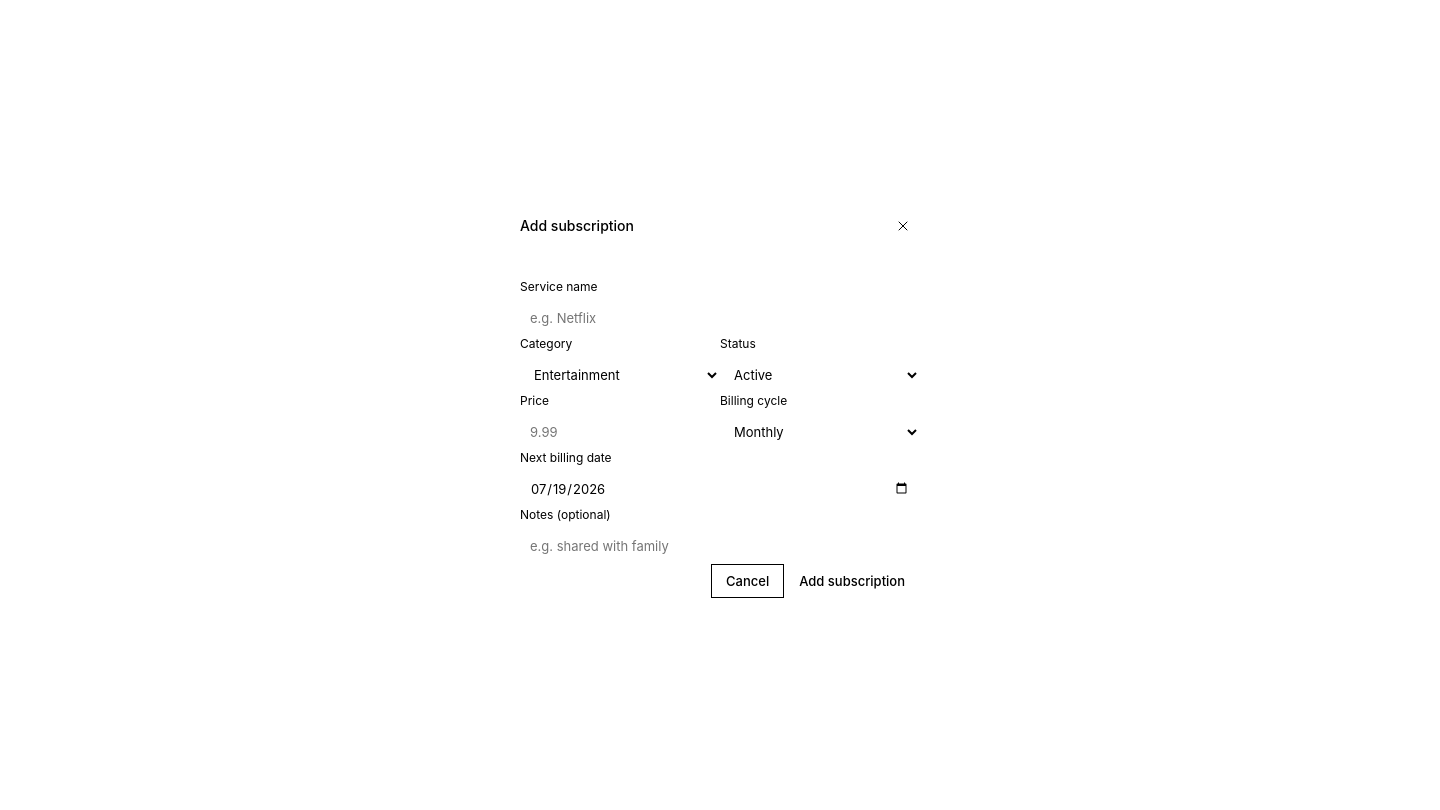
Test: SubscriptionFormModal › suggests a popular service and auto-fills its category on selection
The width and height of the screenshot is (1440, 810).
In the dropdown with placeholder "e.g. Netflix": (720, 318) [520,300,920,336], type "Net"
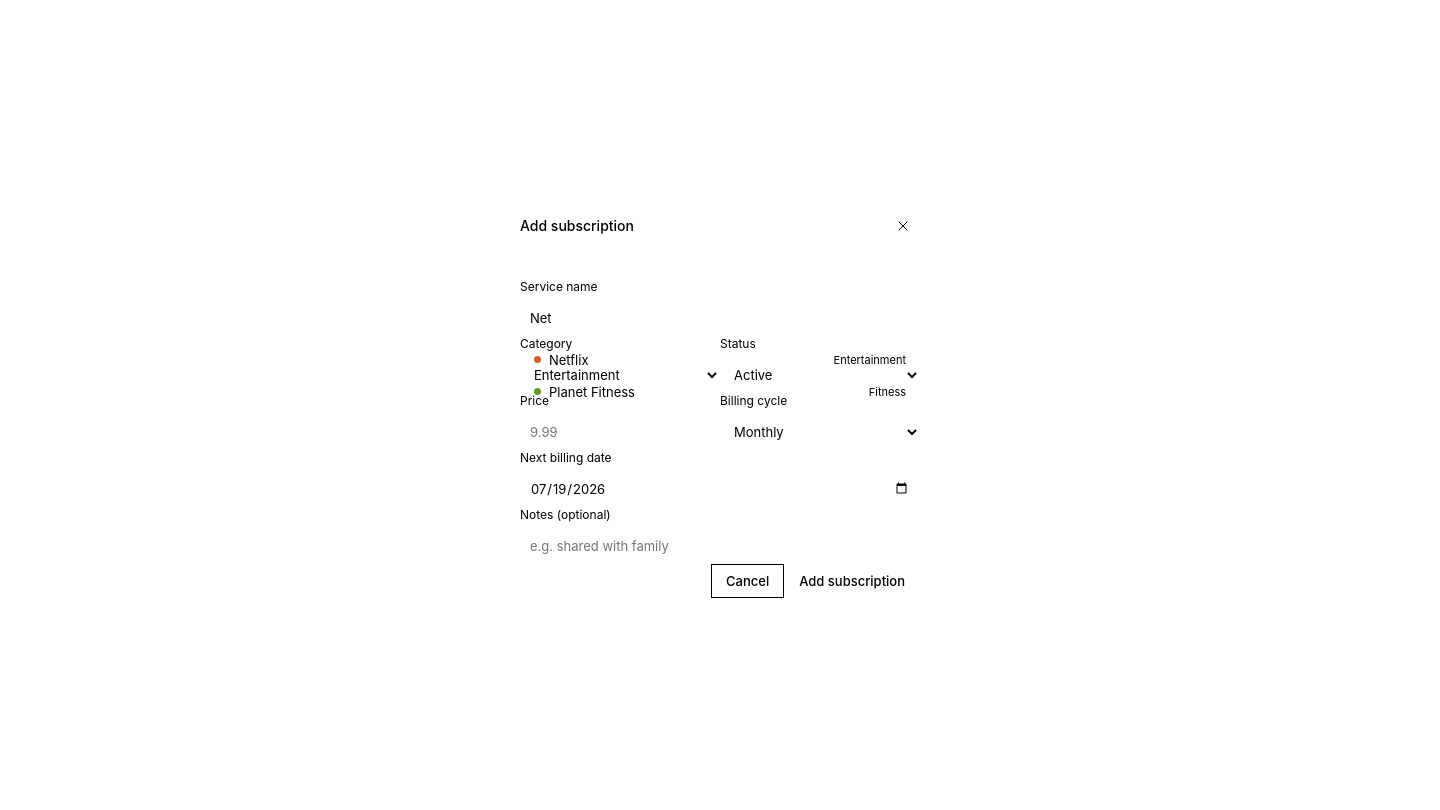
Click the option "Netflix Entertainment": (569, 360) [524,344,916,376]
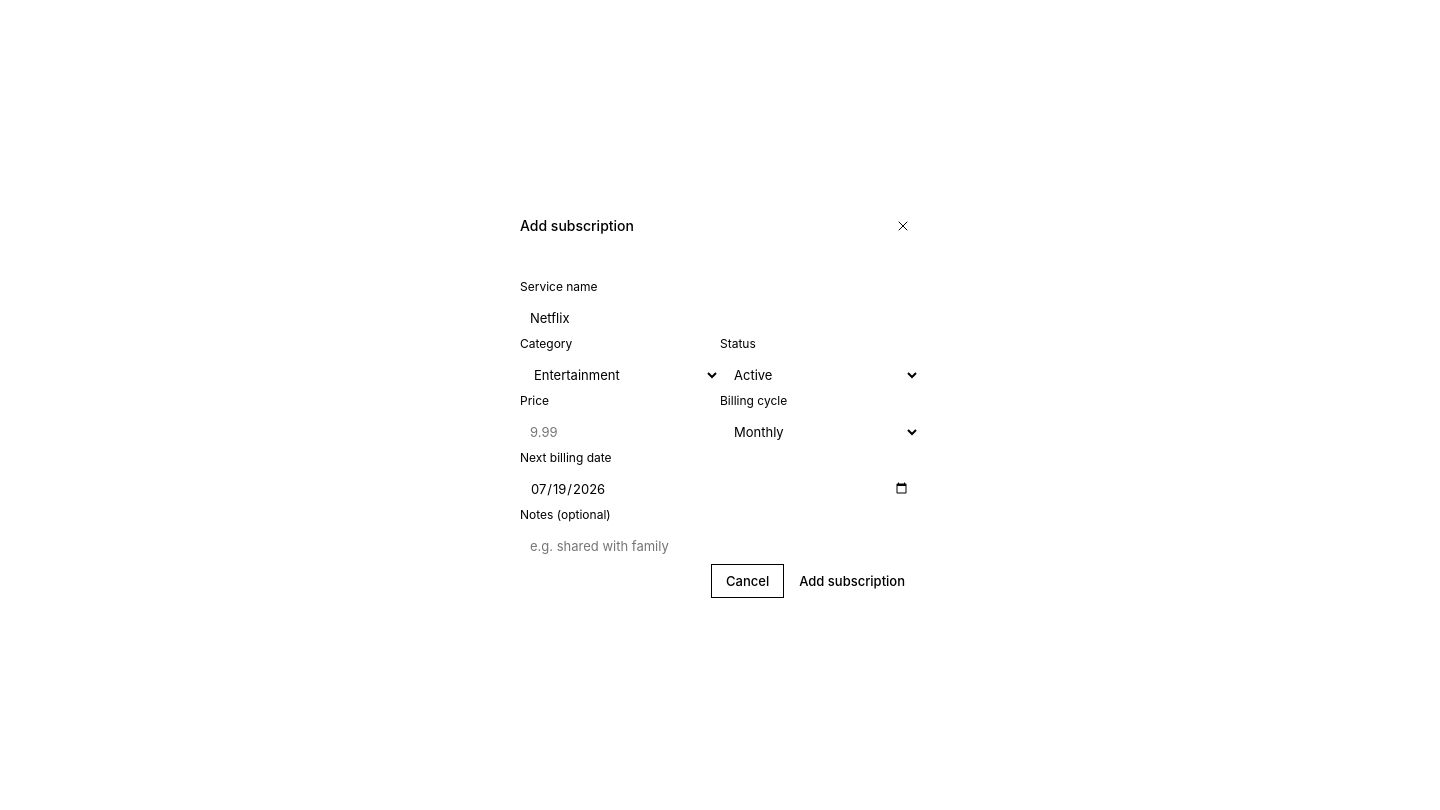
expect the dropdown labelled "Category" shows "Entertainment": met, box [520,356,720,392]
expect the dropdown with placeholder "e.g. Netflix" holds "Netflix": met, box [520,300,920,336]
